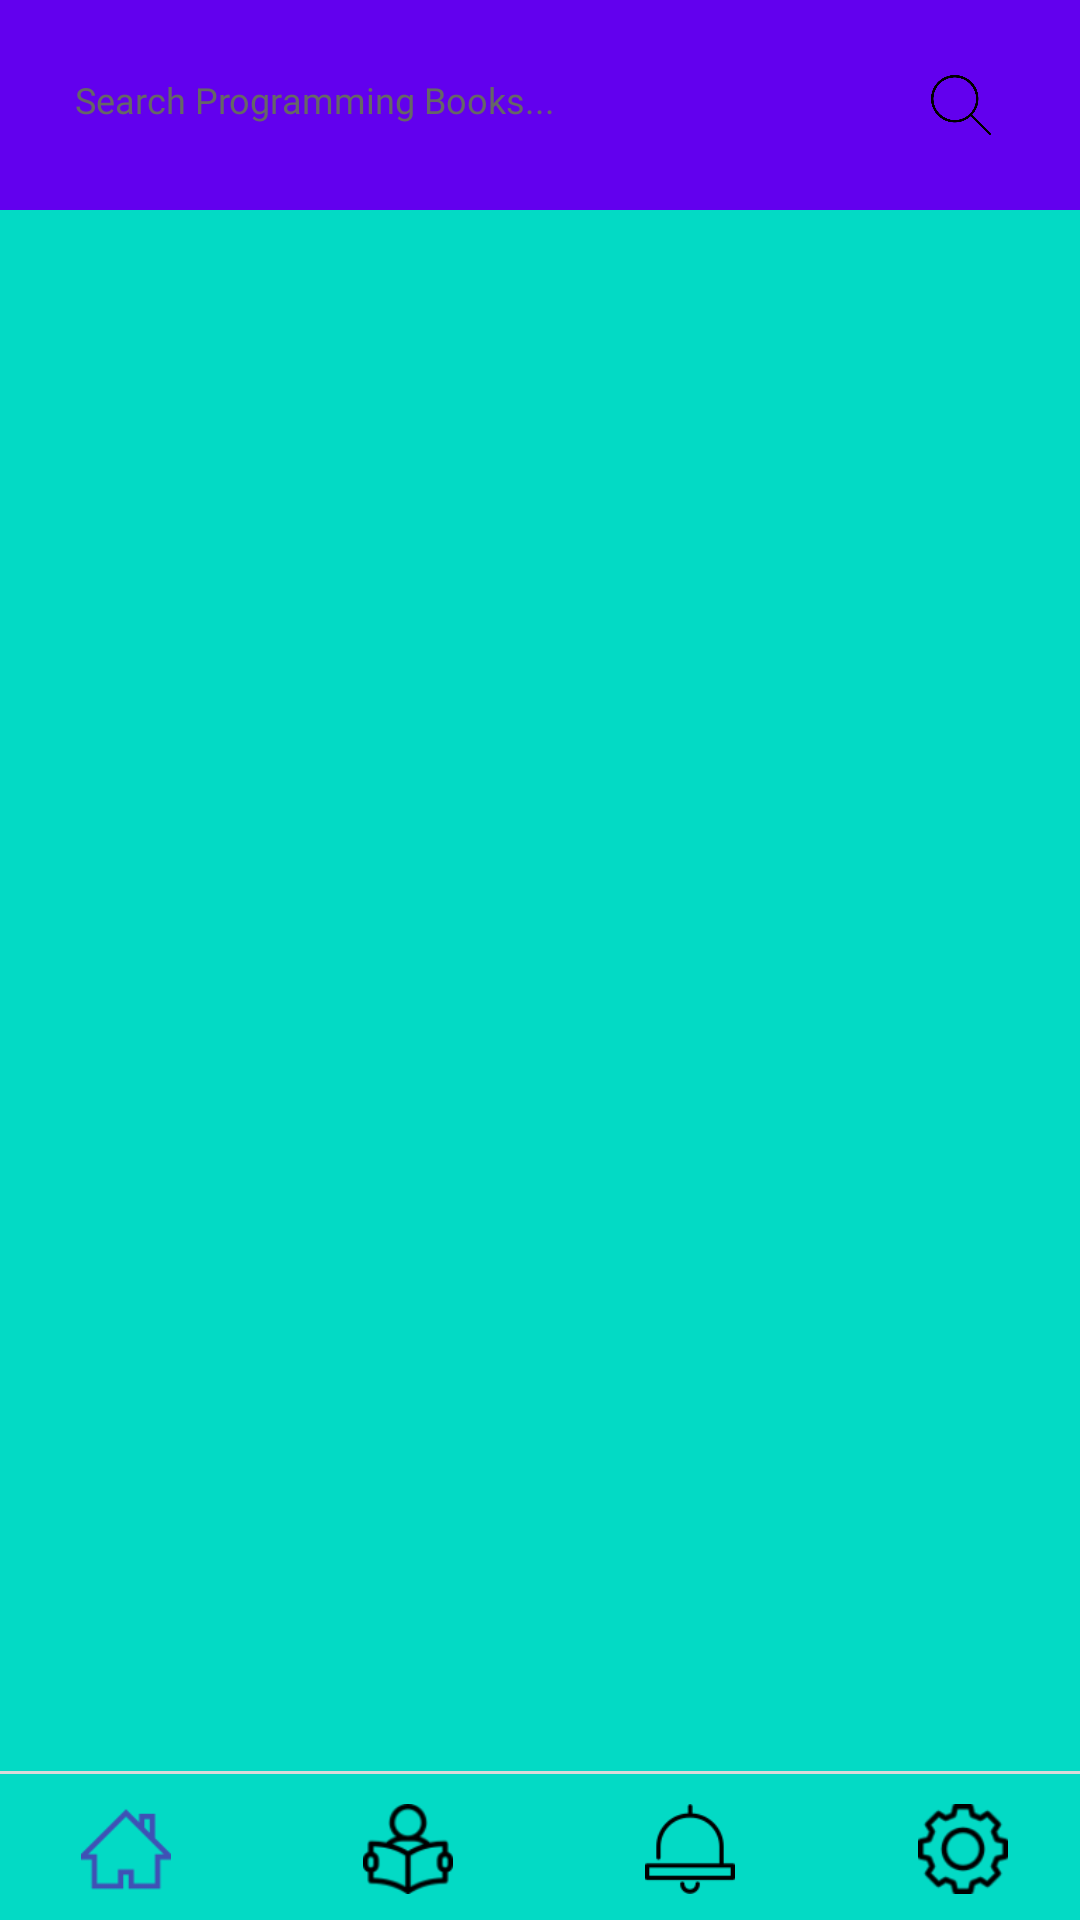

Named icons in this screenshot (1080px x 1920px) and their bounding boxes, (x1, y1, x2, y2):
clicked home: (81, 1809, 171, 1890)
unclicked notification: (645, 1804, 735, 1894)
unclicked setting: (918, 1804, 1008, 1894)
unclicked yourbooks: (363, 1804, 453, 1894)
